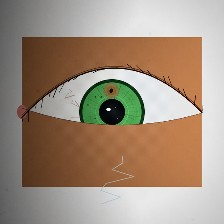foreign_body_visible: (100, 82, 122, 100)
